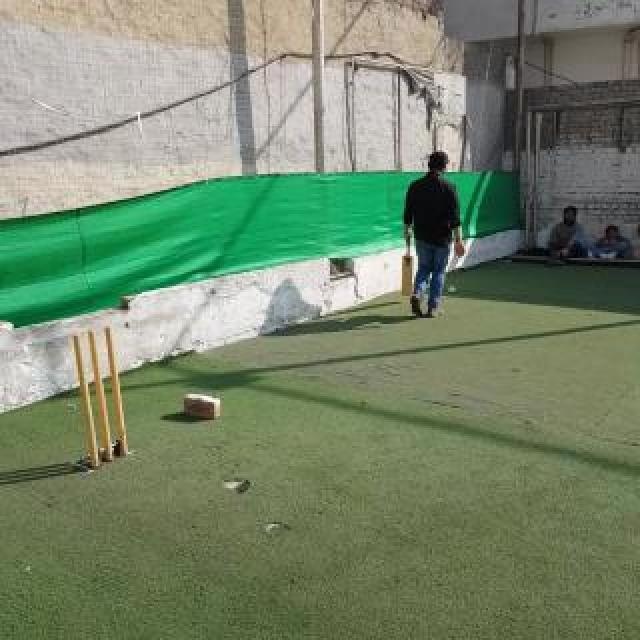ball: (448, 286, 456, 294)
bat: (402, 234, 412, 296)
